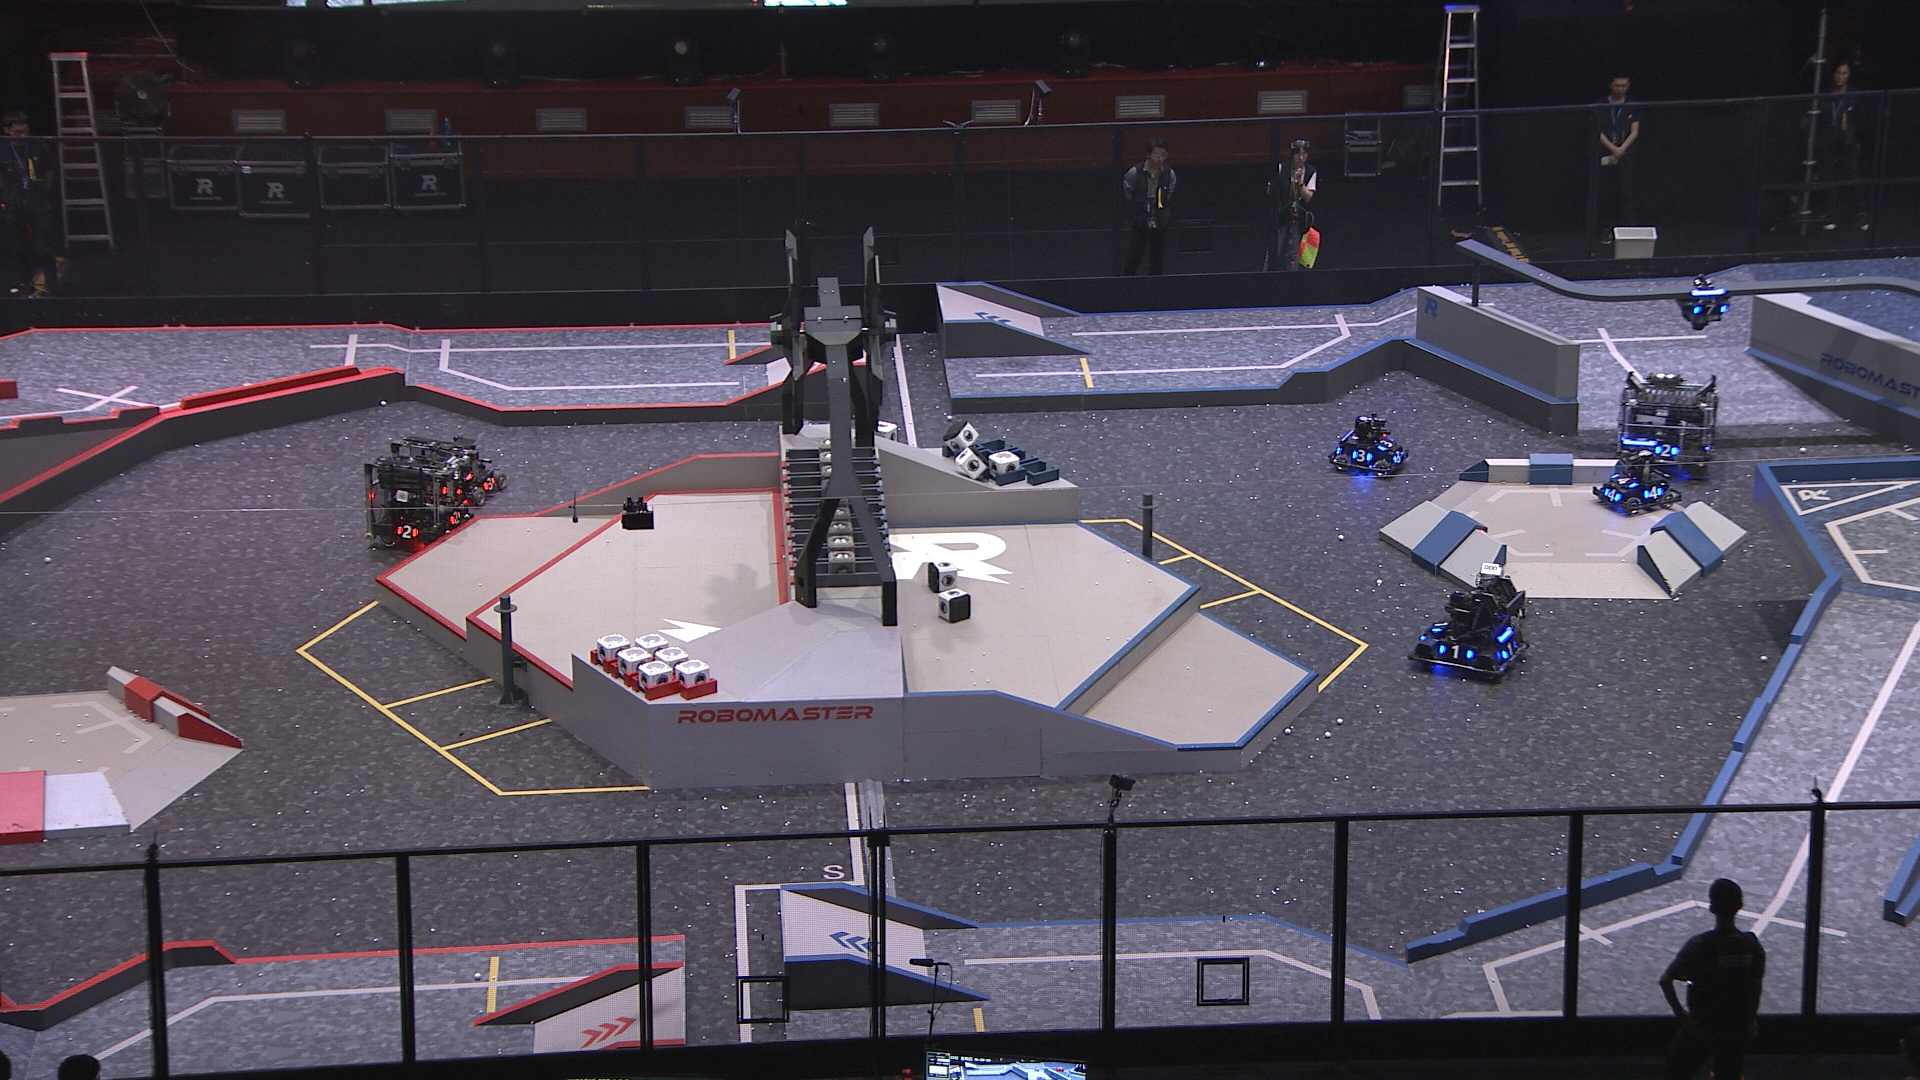armor: (1437, 642, 1474, 662), (1692, 301, 1727, 315), (1652, 440, 1677, 460), (1611, 471, 1636, 489), (1501, 638, 1520, 659), (1600, 485, 1621, 505), (396, 524, 419, 541), (1429, 617, 1449, 636), (1643, 487, 1665, 501), (1352, 448, 1371, 463), (1378, 434, 1394, 451), (1390, 450, 1406, 465), (448, 508, 463, 524), (1515, 603, 1528, 618), (483, 473, 495, 491)
car: (1404, 564, 1532, 678), (361, 436, 479, 550), (1615, 367, 1721, 484), (1592, 452, 1683, 517), (429, 434, 509, 502), (1329, 415, 1406, 487)
watcher: (1676, 272, 1730, 330)
